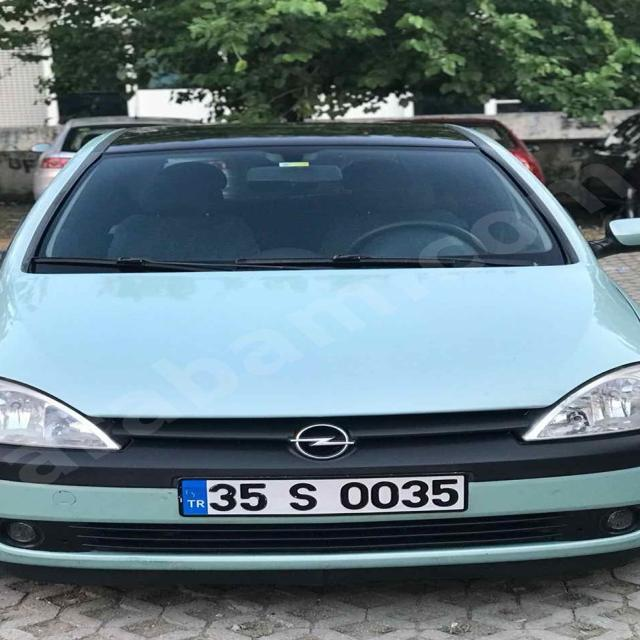license_plate: (179, 474, 466, 516)
